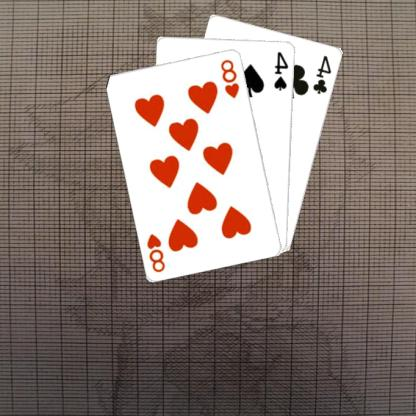4C: (312, 53, 335, 95)
4S: (273, 49, 292, 91)
8H: (220, 56, 242, 100), (146, 231, 168, 273)
